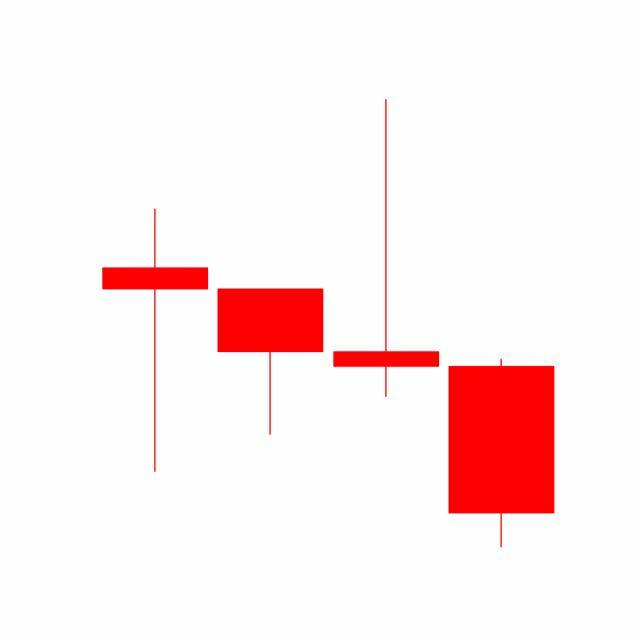Spinning Top: (328, 95, 444, 400)
